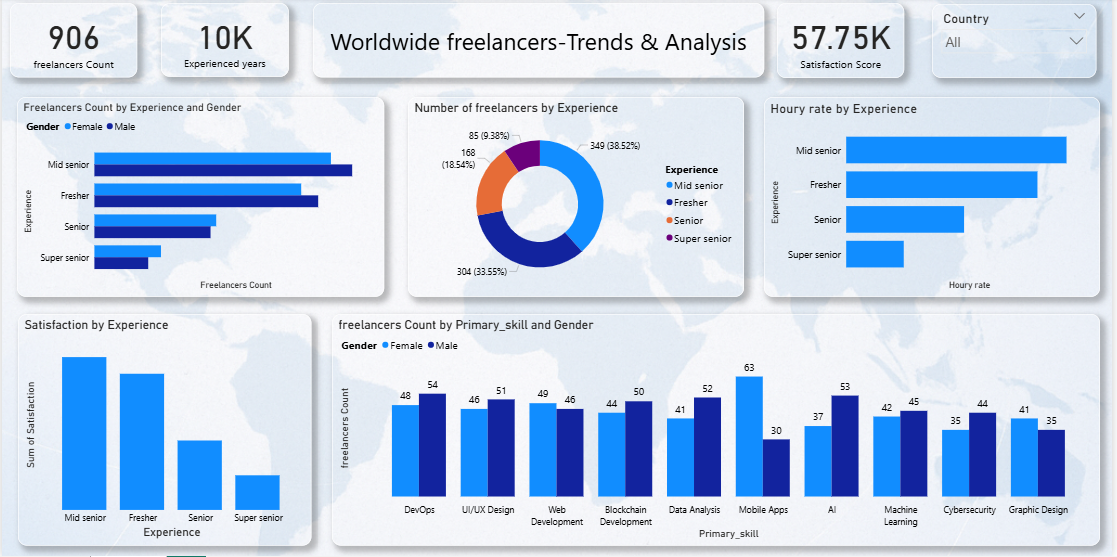

Layout of this report page (visuals, bound fields, positions):
{"tool":"powerbi","page":{"name":"Page 1","canvas":[1850,930],"ordinal":0},"visuals":[{"type":"donutChart","title":"Number of freelancers by Experience","fields":{"Category":["Table 1 (global_freelancers_raw).Experience(years) (groups)"],"Y":["CountNonNull(Table 1 (global_freelancers_raw).freelancer_ID)"]},"box":[676.4,165.7,559.7,333.1],"z":0},{"type":"columnChart","title":"Satisfaction by Experience","fields":{"Category":["Table 1 (global_freelancers_raw).Experience(years) (groups)"],"Y":["Sum(Table 1 (global_freelancers_raw).Satisfaction)"]},"box":[27.1,525.9,488.7,385.5],"z":1000},{"type":"clusteredColumnChart","fields":{"Category":["Table 1 (global_freelancers_raw).Primary_skill"],"Series":["Table 1 (global_freelancers_raw). Gender"],"Y":["CountNonNull(Table 1 (global_freelancers_raw).freelancer_ID)"]},"box":[549.5,525.9,1280,385.5],"z":2000},{"type":"barChart","fields":{"Category":["Table 1 (global_freelancers_raw).Experience(years) (groups)"],"Y":["Sum(Table 1 (global_freelancers_raw).Houry rate)"]},"box":[1269.9,165.7,559.7,333.1],"z":3000},{"type":"clusteredBarChart","title":"Freelancers Count by Experience and Gender","fields":{"Category":["Table 1 (global_freelancers_raw).Experience(years) (groups)"],"Y":["CountNonNull(Table 1 (global_freelancers_raw).freelancer_ID)"],"Series":["Table 1 (global_freelancers_raw). Gender"]},"box":[25.4,165.7,612.1,333.1],"z":4000},{"type":"card","fields":{"Values":["CountNonNull(Table 1 (global_freelancers_raw).freelancer_ID)"]},"box":[26.7,8.9,159.9,122.6],"z":5000},{"type":"card","fields":{"Values":["Sum(Table 1 (global_freelancers_raw).Experience(years))"]},"box":[207.9,10.7,284.3,122.6],"z":6000},{"type":"slicer","fields":{"Values":["Table 1 (global_freelancers_raw).Country"]},"box":[1550,10,273.3,123.3],"z":7000},{"type":"card","fields":{"Values":["Sum(Table 1 (global_freelancers_raw).Satisfaction)"]},"box":[1292.3,8.3,212.3,124.9],"z":8000},{"type":"shape","box":[518.9,8.9,751.7,124.4],"z":9000}]}

Visuals, with their boxes in screenshot pixels (x1, y1, x2, y2), scaled from the page's 1850x930 canvas onto the 1117x557 screenshot:
"Number of freelancers by Experience" donutChart: 408, 99, 746, 299
"Satisfaction by Experience" columnChart: 16, 315, 311, 546
clusteredColumnChart - Table 1 (global_freelancers_raw).Primary_skill x Table 1 (global_freelancers_raw). Gender: 332, 315, 1105, 546
barChart - Table 1 (global_freelancers_raw).Experience(years) (groups) x Sum(Table 1 (global_freelancers_raw).Houry rate): 767, 99, 1105, 299
"Freelancers Count by Experience and Gender" clusteredBarChart: 15, 99, 385, 299
card - CountNonNull(Table 1 (global_freelancers_raw).freelancer_ID): 16, 5, 113, 79
card - Sum(Table 1 (global_freelancers_raw).Experience(years)): 126, 6, 297, 80
slicer - Table 1 (global_freelancers_raw).Country: 936, 6, 1101, 80
card - Sum(Table 1 (global_freelancers_raw).Satisfaction): 780, 5, 908, 80
shape: 313, 5, 767, 80
